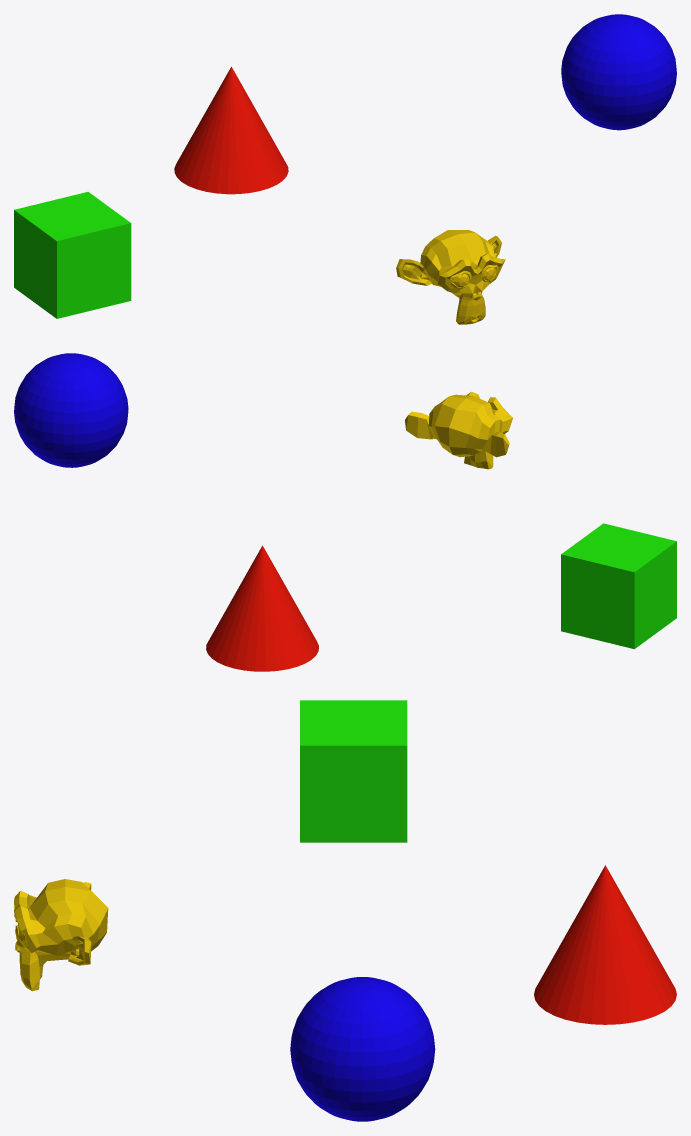
The picture shows the model from 3 angles, top to bottom: view 1: azimuth 30°, elevation 25°; view 2: azimuth 150°, elevation 25°; view 3: azimuth 270°, elevation 25°; orthographic projection. The views are drawn at different scales.
Visible parts, largest first — view 1: Cube, Sphere, Cone, Suzanne; view 2: Cube, Sphere, Cone, Suzanne; view 3: Sphere, Cube, Cone, Suzanne.
Boxes of the visible parts, bbox=[...] form: Cube: bbox=[14, 192, 131, 318]; Sphere: bbox=[561, 14, 676, 130]; Cone: bbox=[174, 66, 288, 194]; Suzanne: bbox=[396, 230, 505, 324]; Cube: bbox=[561, 523, 676, 649]; Sphere: bbox=[14, 353, 128, 467]; Cone: bbox=[206, 545, 318, 671]; Suzanne: bbox=[405, 391, 512, 469]; Sphere: bbox=[290, 977, 435, 1121]; Cube: bbox=[300, 700, 407, 842]; Cone: bbox=[534, 865, 676, 1024]; Suzanne: bbox=[14, 879, 108, 991].
Bounding box in the file's own units: 45.82 × 10.35 × 33.02.
